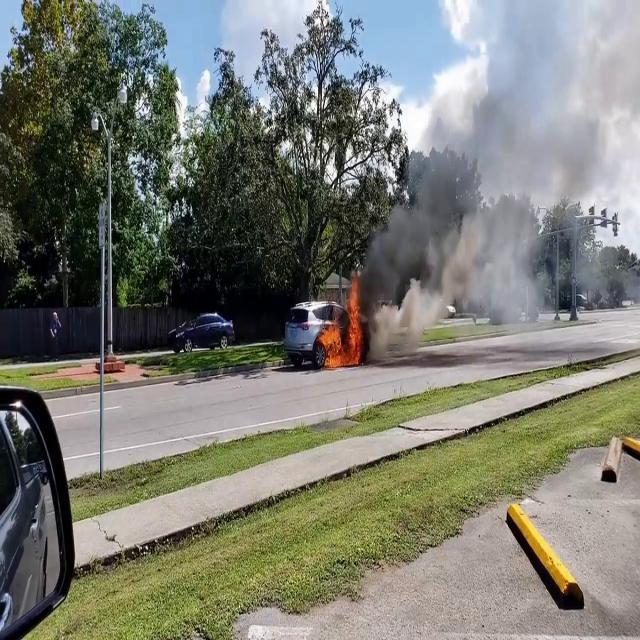Fire: (314, 268, 370, 369)
Smoke: (364, 55, 632, 341)
